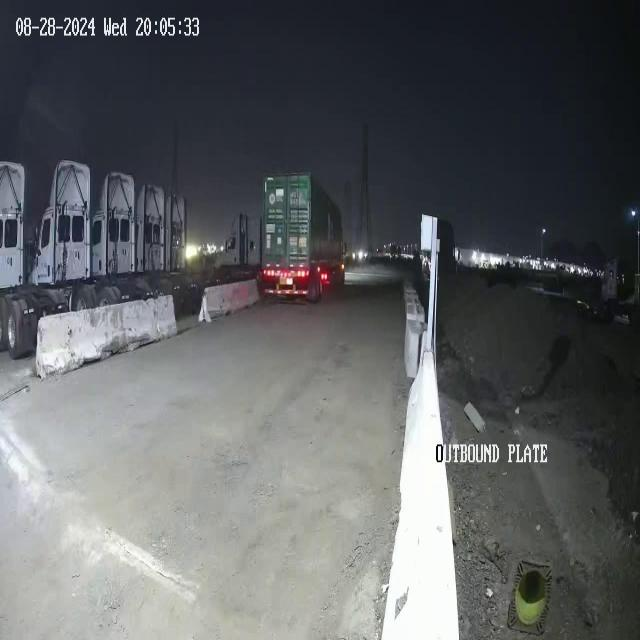TRUCK_IN: (257, 170, 346, 304)
